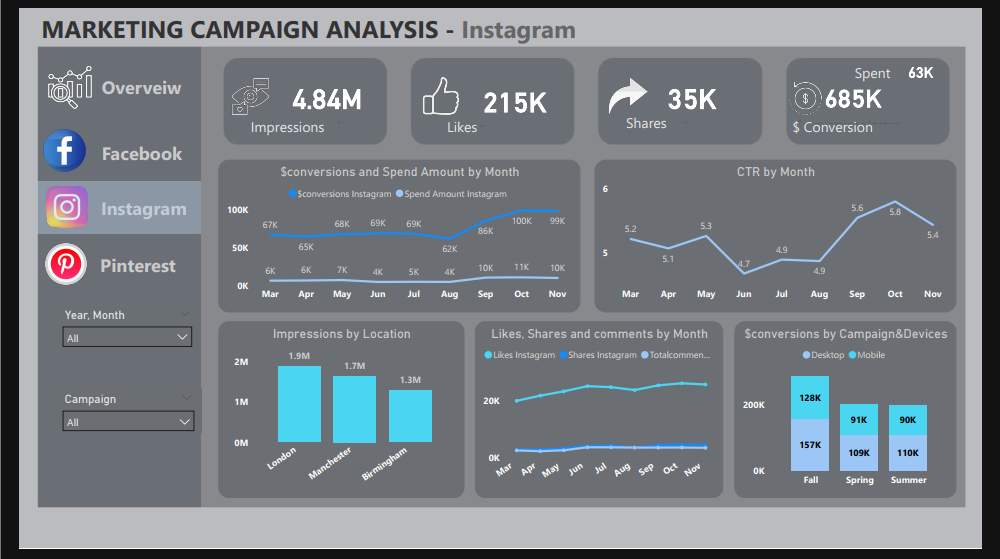

Layout of this report page (visuals, bound fields, positions):
{"tool":"powerbi","page":{"name":"Instagram","canvas":[1280,720],"ordinal":2},"visuals":[{"type":"card","fields":{"Values":["Instagram Calculation.Impressions Instagram"]},"box":[327.7,98.4,163.1,60.2],"z":0},{"type":"card","fields":{"Values":["Instagram Calculation.Likes Instagram"]},"box":[577.5,102.9,163.1,60.2],"z":1000},{"type":"card","fields":{"Values":["Instagram Calculation.Shares Instagram"]},"box":[812.6,98.4,163.1,60.2],"z":2000},{"type":"card","fields":{"Values":["Instagram Calculation.$conversions Instagram"]},"box":[1027.1,98.4,163.1,60.2],"z":3000},{"type":"image","box":[277.5,87.8,60,60],"z":4000},{"type":"image","box":[531.4,87.4,60,60],"z":5000},{"type":"image","box":[780,87.4,60,60],"z":6000},{"type":"image","box":[1018.3,94,54.4,52.9],"z":7000},{"type":"lineChart","title":"$conversions and Spend Amount by Month ","fields":{"Category":["Calender.Month name"],"Y":["Instagram Calculation.$conversions Instagram","Instagram Calculation.Spend Amount Instagram"]},"box":[264.7,202.4,481.2,202.4],"z":8000},{"type":"lineChart","title":"CTR by Month","fields":{"Category":["Calender.Month name"],"Y":["Instagram Calculation.CTR Instagram"]},"box":[764.6,202.4,481.2,202.4],"z":9000},{"type":"image","box":[27.9,70.5,77.9,69.1],"z":10000},{"type":"image","box":[25,154.3,70.5,70.5],"z":11000},{"type":"textbox","box":[104.3,245.4,148.4,51.4],"z":12000},{"type":"image","box":[30.9,232.2,64.7,64.7],"z":13000},{"type":"image","box":[29.4,308.6,64.7,64.7],"z":14000},{"type":"shape","box":[25,230,216.7,70],"z":15000},{"type":"textbox","box":[24.9,0,805.1,60.7],"z":16000},{"type":"slicer","fields":{"Values":["data.Campaign"]},"box":[48.3,506.1,194.6,59.2],"z":17000},{"type":"slicer","fields":{"Values":["Calender.Date.Variation.Date Hierarchy.Year","Calender.Month name"]},"box":[48.5,393.8,191,60.2],"z":18000},{"type":"textbox","box":[302.7,139.6,167.5,36.7],"z":19000},{"type":"textbox","box":[564.2,139.6,167.5,36.7],"z":20000},{"type":"textbox","box":[802.3,135.2,167.5,36.7],"z":21000},{"type":"textbox","box":[1022.7,139.6,167.5,36.7],"z":22000},{"type":"card","fields":{"Values":["Instagram Calculation.Spend Amount Instagram"]},"box":[1116.7,55.8,163.1,60.2],"z":23000},{"type":"textbox","box":[1106.4,67.6,98.4,38.2],"z":24000},{"type":"clusteredColumnChart","title":"Impressions by Location","fields":{"Category":["data.City/Location"],"Y":["Instagram Calculation.Impressions Instagram"]},"box":[264.7,417.3,327,235.1],"z":25000},{"type":"lineChart","title":"Likes, Shares and comments  by Month ","fields":{"Category":["Calender.Month name"],"Y":["Instagram Calculation.Likes Instagram","Instagram Calculation.Shares Instagram","Instagram Calculation.Totalcommennts Instagram"]},"box":[605.7,417.3,330.1,235.1],"z":26000},{"type":"columnChart","title":"$conversions by Campaign&Devices","fields":{"Category":["data.Campaign"],"Series":["data.Device"],"Y":["Instagram Calculation.$conversions Instagram"]},"box":[951.4,417.3,294.3,235.1],"z":27000},{"type":"actionButton","box":[104.3,308.6,146.9,66.1],"z":28000},{"type":"actionButton","box":[105.8,158.7,146.9,66.1],"z":28001},{"type":"actionButton","box":[105.8,72,146.9,66.1],"z":28002}]}

Visuals, with their boxes in screenshot pixels (x1, y1, x2, y2), scaled from the page's 1280x720 canvas onto the 1000x559 screenshot:
card - Instagram Calculation.Impressions Instagram: bbox(256, 76, 383, 123)
card - Instagram Calculation.Likes Instagram: bbox(451, 80, 579, 127)
card - Instagram Calculation.Shares Instagram: bbox(635, 76, 762, 123)
card - Instagram Calculation.$conversions Instagram: bbox(802, 76, 930, 123)
image: bbox(217, 68, 264, 115)
image: bbox(415, 68, 462, 114)
image: bbox(609, 68, 656, 114)
image: bbox(796, 73, 838, 114)
"$conversions and Spend Amount by Month " lineChart: bbox(207, 157, 583, 314)
"CTR by Month" lineChart: bbox(597, 157, 973, 314)
image: bbox(22, 55, 83, 108)
image: bbox(20, 120, 75, 175)
textbox: bbox(81, 191, 197, 230)
image: bbox(24, 180, 75, 231)
image: bbox(23, 240, 74, 290)
shape: bbox(20, 179, 189, 233)
textbox: bbox(19, 0, 648, 47)
slicer - data.Campaign: bbox(38, 393, 190, 439)
slicer - Calender.Date.Variation.Date Hierarchy.Year x Calender.Month name: bbox(38, 306, 187, 352)
textbox: bbox(236, 108, 367, 137)
textbox: bbox(441, 108, 572, 137)
textbox: bbox(627, 105, 758, 133)
textbox: bbox(799, 108, 930, 137)
card - Instagram Calculation.Spend Amount Instagram: bbox(872, 43, 999, 90)
textbox: bbox(864, 52, 941, 82)
"Impressions by Location" clusteredColumnChart: bbox(207, 324, 462, 507)
"Likes, Shares and comments  by Month " lineChart: bbox(473, 324, 731, 507)
"$conversions by Campaign&Devices" columnChart: bbox(743, 324, 973, 507)
actionButton: bbox(81, 240, 196, 291)
actionButton: bbox(83, 123, 197, 175)
actionButton: bbox(83, 56, 197, 107)
